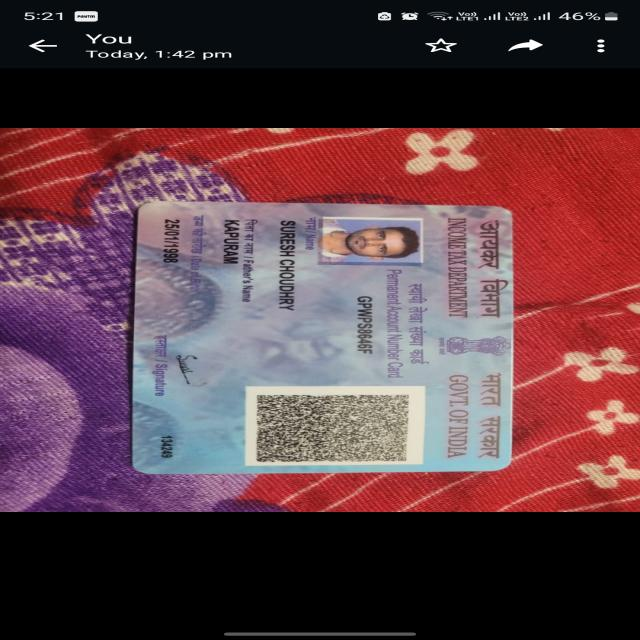pan_card: (122, 202, 516, 468)
